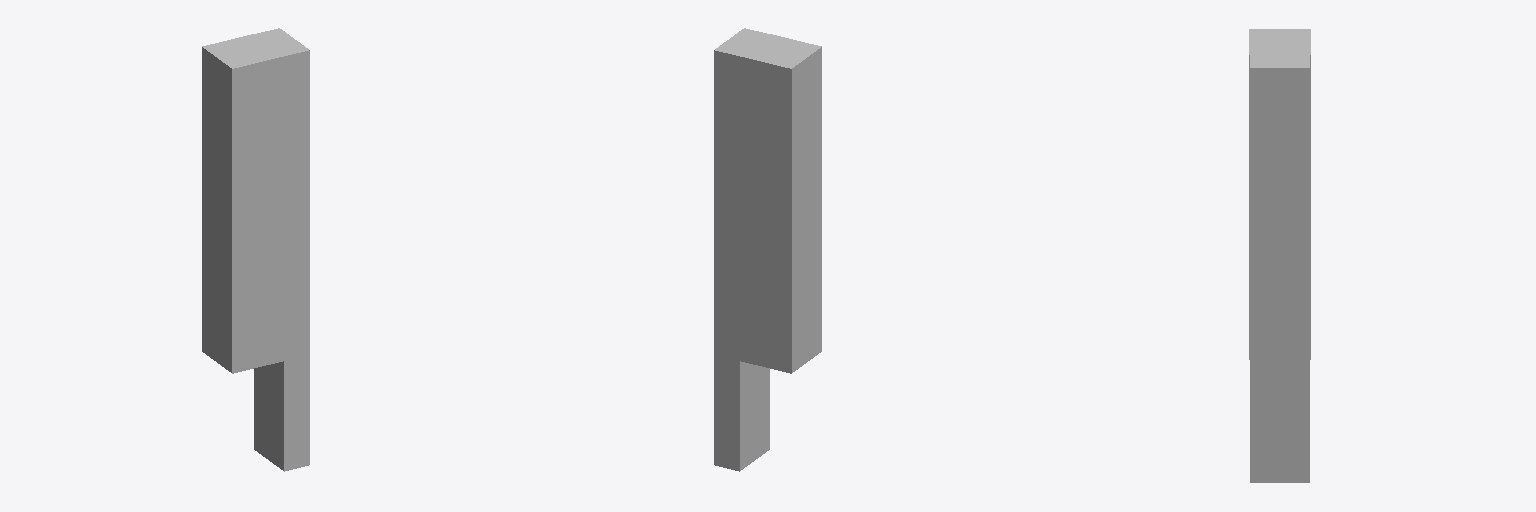
Rendered from left_e_link.obj.
3 views of the same model, side by side, from view 1: azimuth 30°, elevation 25°; view 2: azimuth 150°, elevation 25°; view 3: azimuth 270°, elevation 25° (orthographic).
Parts seen in each view (by area): view 1: cube.001; view 2: cube.001; view 3: cube.001.
Boxes of the visible parts, <box> form: cube.001: <box>202,28,309,471</box>; cube.001: <box>714,28,821,471</box>; cube.001: <box>1249,29,1310,482</box>.
Bounding box in the file's own units: 0.1838 × 0.9369 × 0.125.